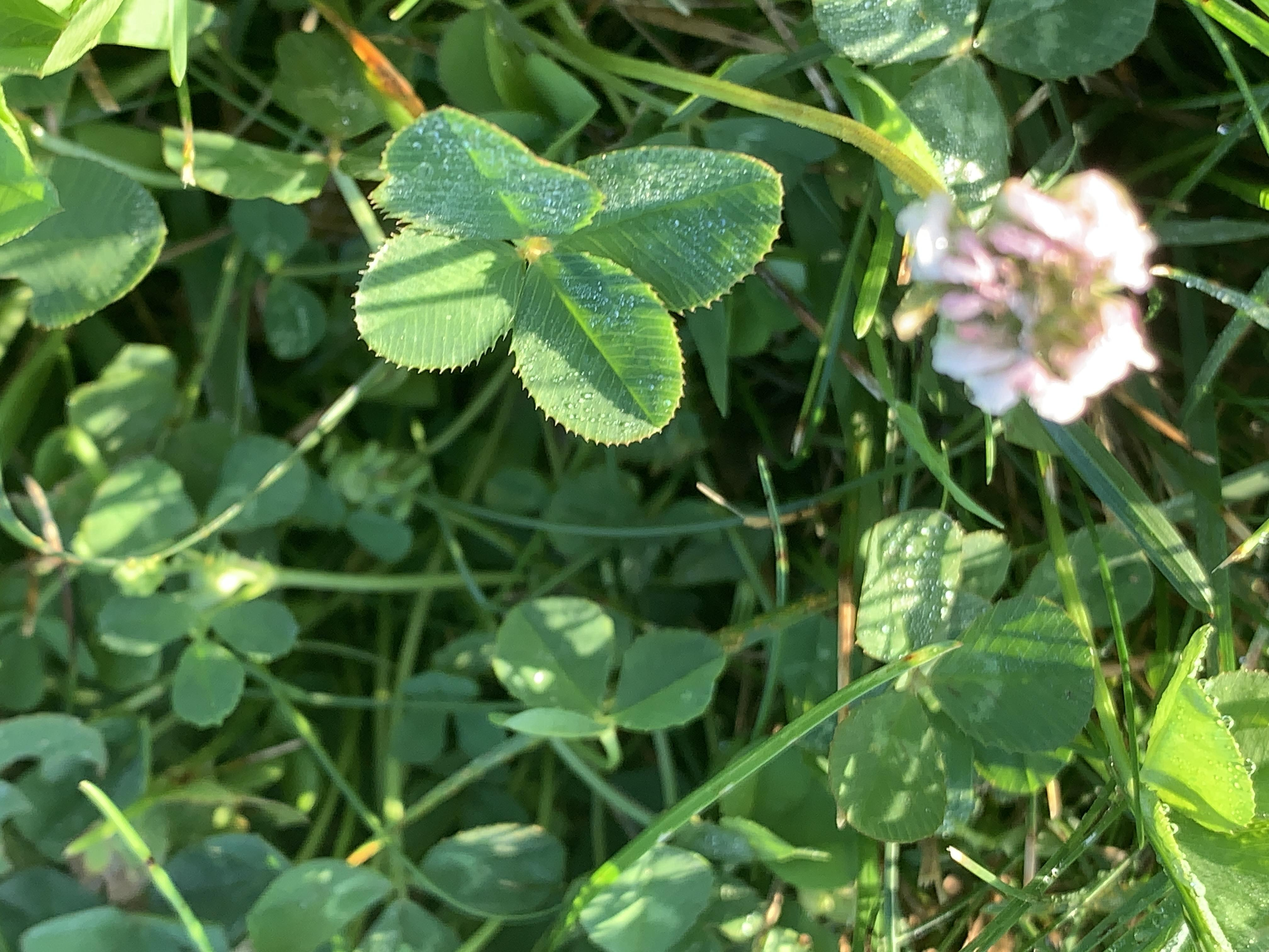4-Leaf-Clovers: (486, 510, 912, 849)
